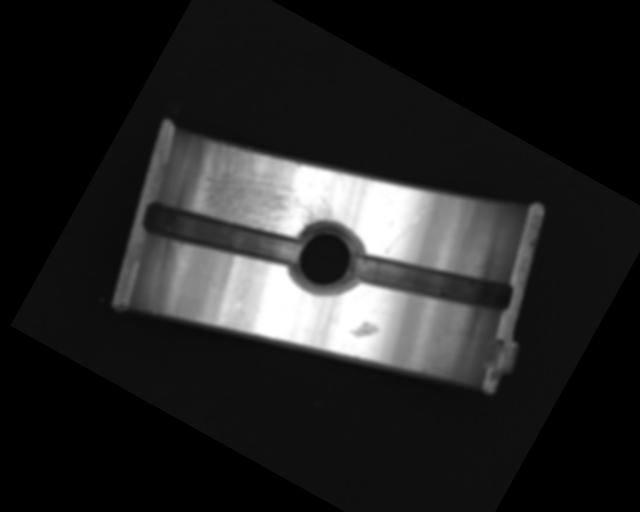bruise: (349, 314, 382, 346)
gap: (349, 215, 516, 351), (137, 170, 304, 302)
hole: (279, 209, 374, 308)
nick: (383, 202, 425, 260)
scratch: (168, 108, 354, 278)
